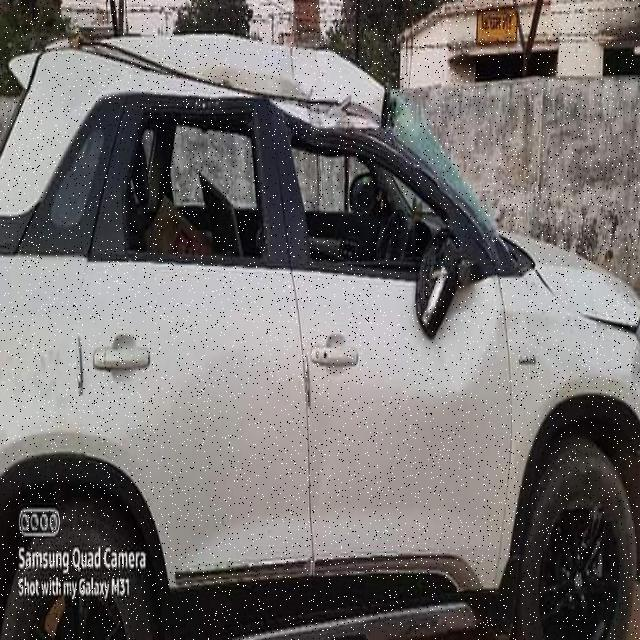Sidemirror-Damage: (402, 227, 476, 344)
doorouter-dent: (295, 271, 510, 562)
fender-dent: (503, 287, 640, 508)
pillar-dent: (248, 100, 312, 272)
roof-dent: (93, 25, 386, 132)
